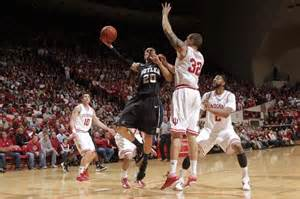basketball: (100, 25, 116, 42)
